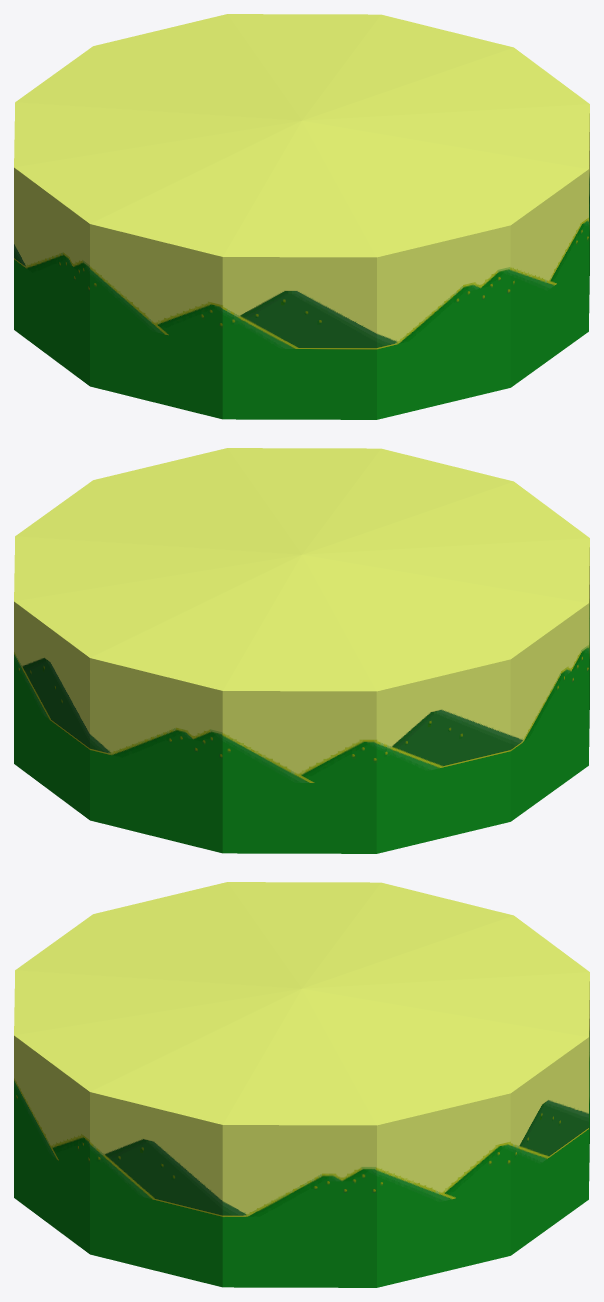
File: old_mario_sfc-old_mario_sfc_V.glb
3 views of the same model, one above another, from view 1: azimuth 30°, elevation 25°; view 2: azimuth 150°, elevation 25°; view 3: azimuth 270°, elevation 25° (orthographic).
Visible parts, largest first — view 1: old_mario_sfc_V; view 2: old_mario_sfc_V; view 3: old_mario_sfc_V.
Boxes of the visible parts, x1,y1,x2,y2 form: old_mario_sfc_V: (14, 14, 589, 419); old_mario_sfc_V: (14, 448, 589, 853); old_mario_sfc_V: (14, 882, 589, 1287).
Size of the model in its own units: 558 by 190 by 558.
Materials: 2 (2 with a texture image).
